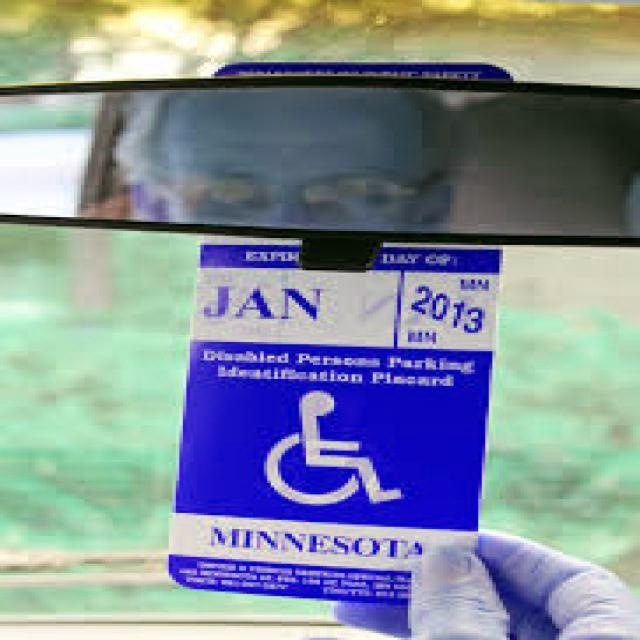ISA: (258, 389, 406, 506)
